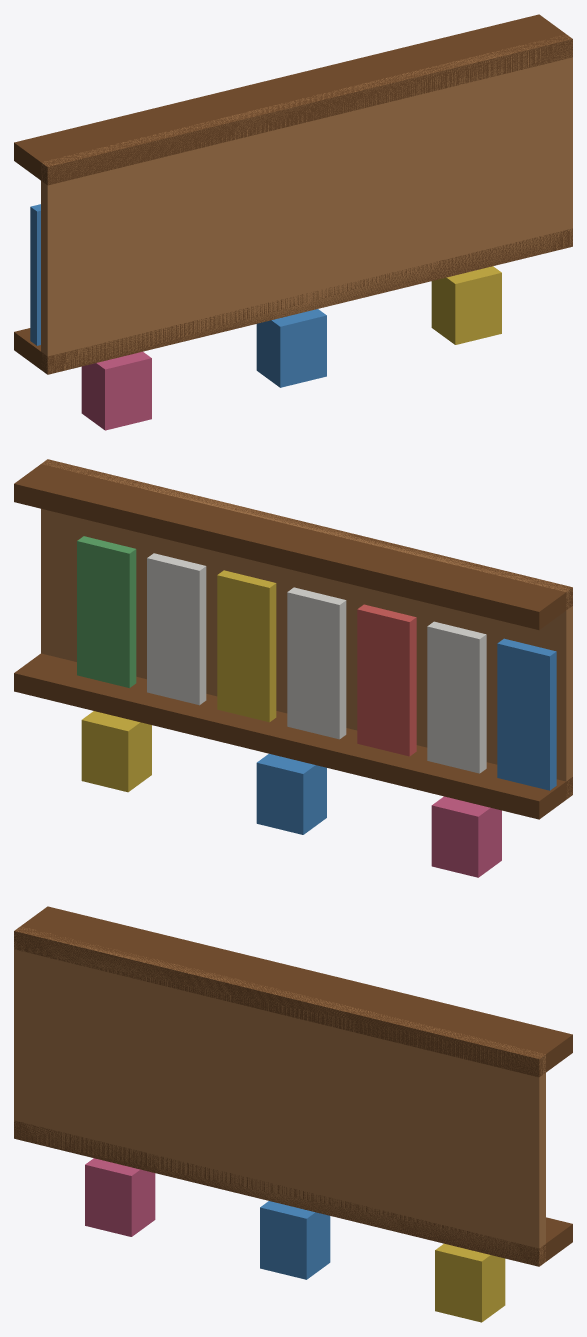
File: ncb-plate-rack.glb
3 views of the same model, one above another, from view 1: azimuth 30°, elevation 25°; view 2: azimuth 150°, elevation 25°; view 3: azimuth 330°, elevation 25° (orthographic).
Visible parts, largest first — view 1: box-prop; view 2: box-prop; view 3: box-prop.
Boxes of the visible parts, box(x1,y1,x2,y2) form: box-prop: box(14, 14, 572, 430); box-prop: box(14, 459, 572, 877); box-prop: box(14, 906, 572, 1322).
Bounding box in the file's own units: 1.8 × 0.93 × 0.2.
